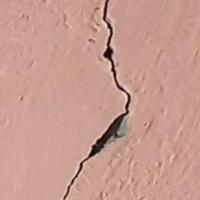crack: (60, 0, 140, 199)
